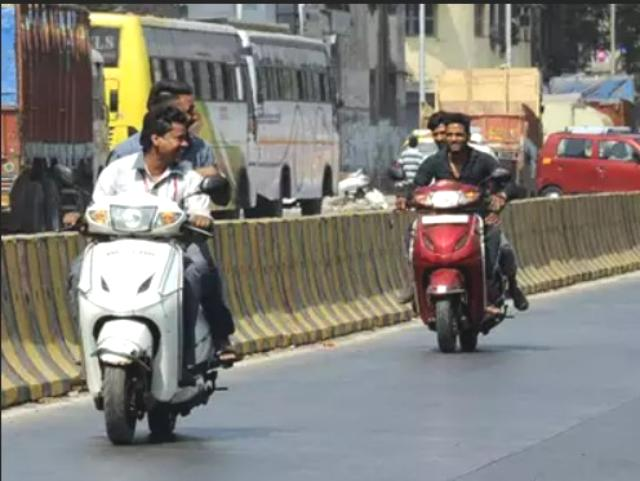licensePlate: (101, 243, 161, 262), (420, 216, 475, 226)
motorcycle: (63, 72, 246, 451), (395, 102, 529, 354)
withoutHelmet: (140, 112, 191, 166), (144, 77, 197, 109), (444, 114, 474, 152), (428, 107, 449, 152)
